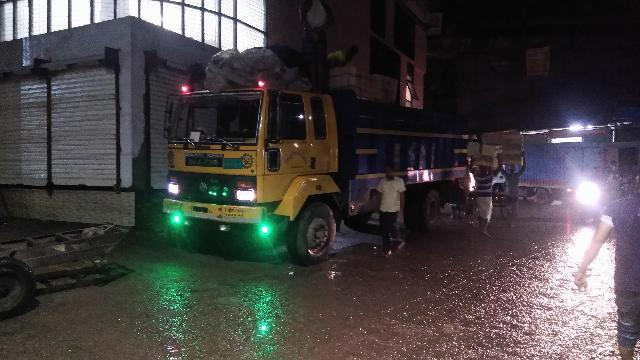truck: (160, 55, 468, 231), (521, 135, 622, 197)
